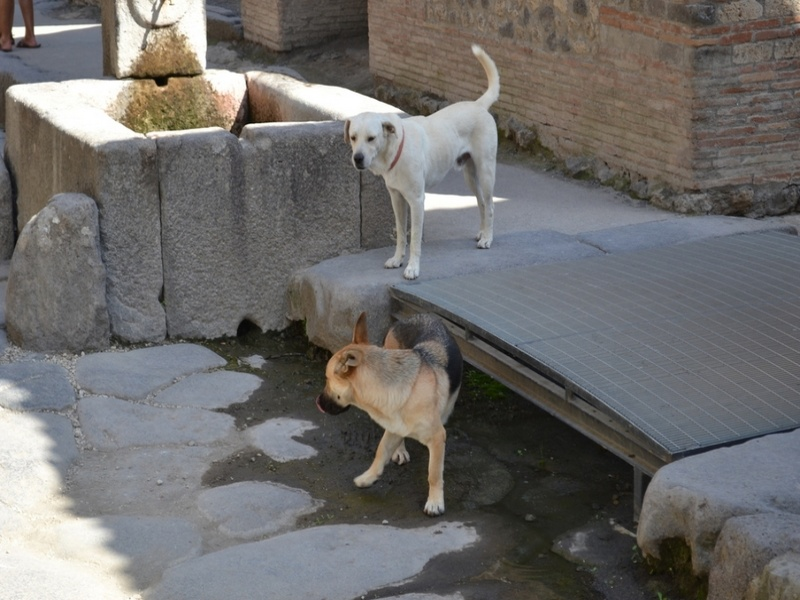dog: (346, 39, 501, 287), (314, 303, 464, 520)
